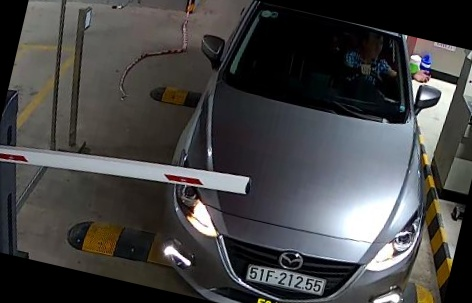plate: (244, 259, 339, 298)
